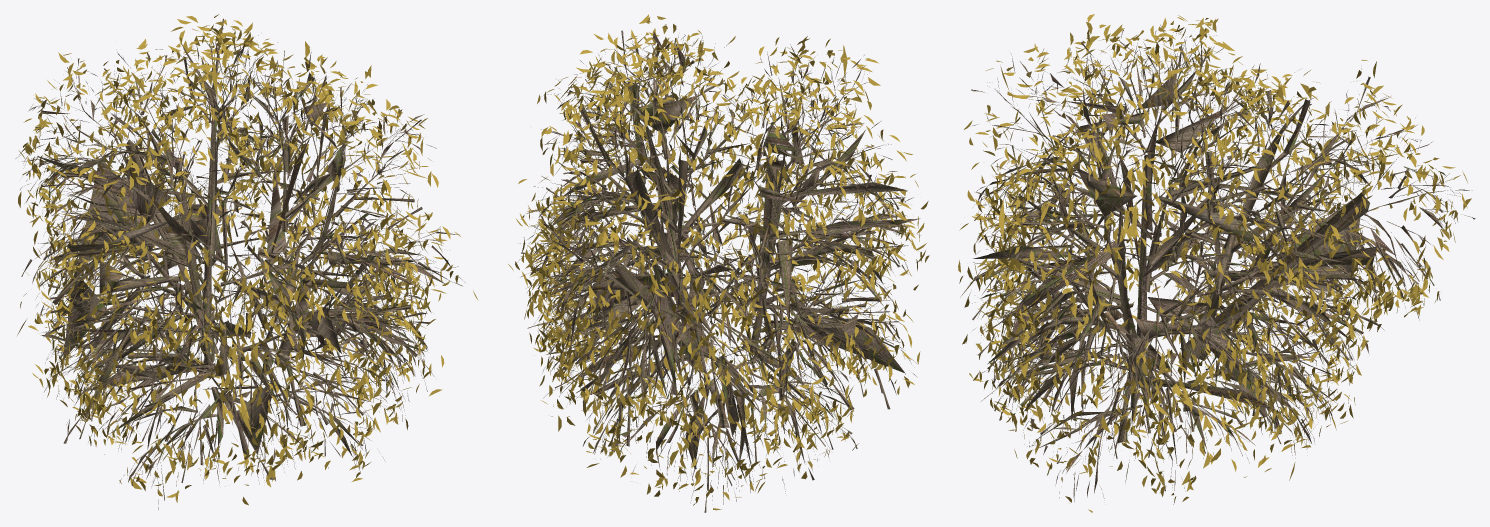
Rendered from tree_02_lod2.glb.
3 views of the same model, side by side, from view 1: azimuth 30°, elevation 25°; view 2: azimuth 150°, elevation 25°; view 3: azimuth 270°, elevation 25° (orthographic). The views are drawn at different scales.
Parts seen in each view (by area): view 1: Tree_02_LOD2; view 2: Tree_02_LOD2; view 3: Tree_02_LOD2.
Part boxes in pixels (<box>): Tree_02_LOD2: <box>15,14,478,509</box>; Tree_02_LOD2: <box>508,14,929,512</box>; Tree_02_LOD2: <box>958,14,1475,512</box>.
Size of the model in its own units: 7.22 by 7.69 by 8.58.
Materials: 2 (2 with a texture image).
